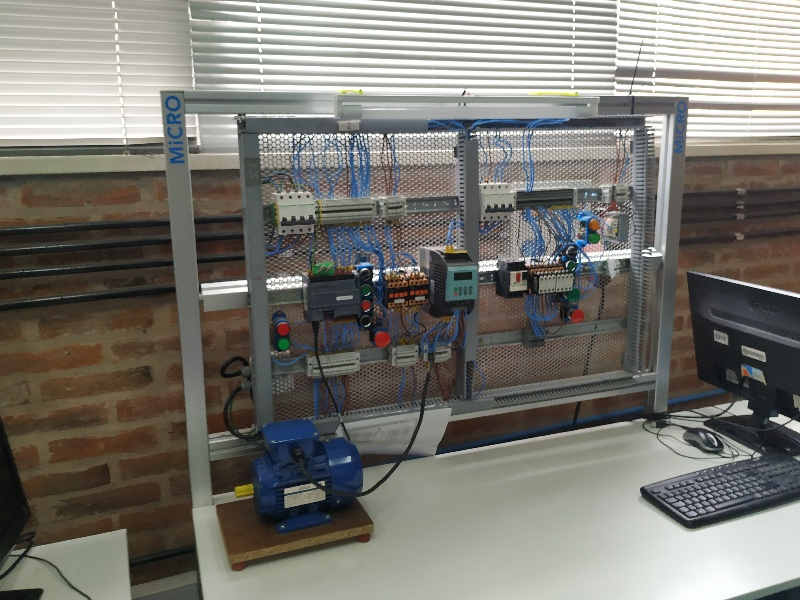Tablero 2: (250, 124, 646, 408)
